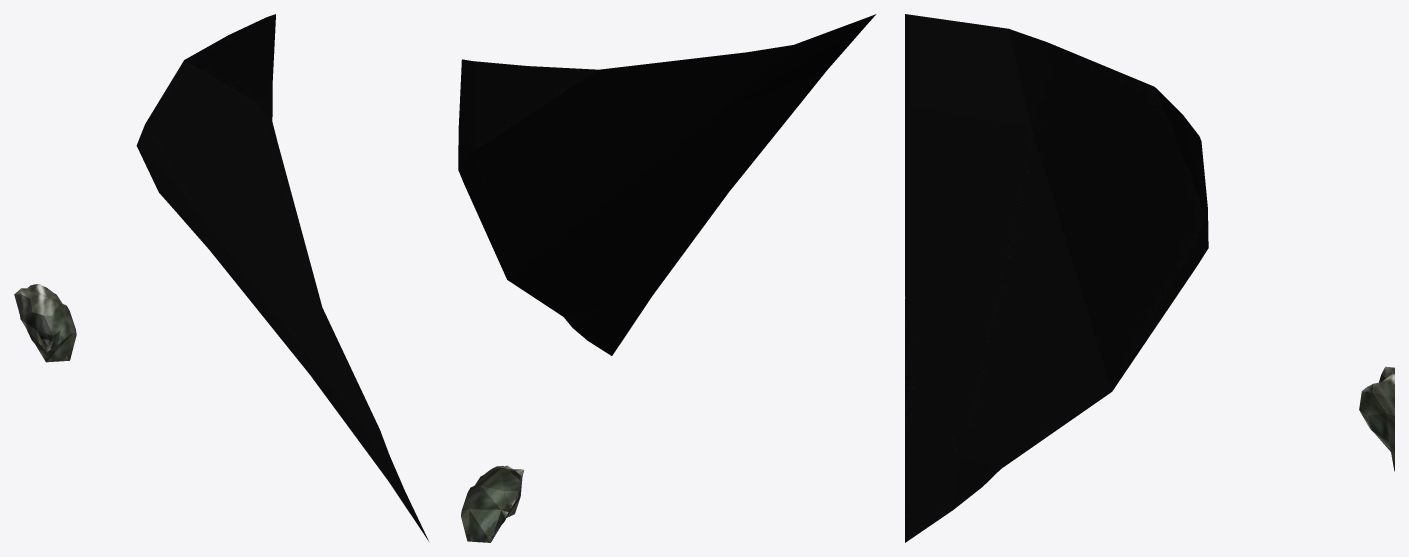
The picture shows the model from 3 angles, left to right: view 1: azimuth 30°, elevation 25°; view 2: azimuth 150°, elevation 25°; view 3: azimuth 270°, elevation 25°; orthographic projection. The views are drawn at different scales.
Bounding box in the file's own units: 3.63 × 5.34 × 5.9.
2 materials, 2 textured.
